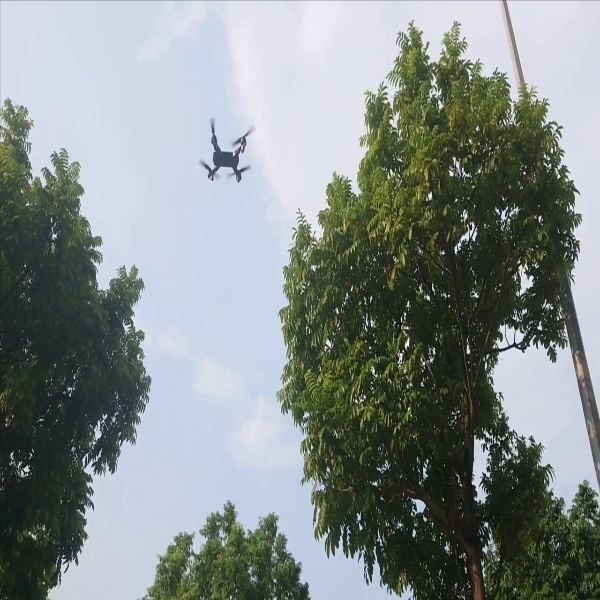drone: (193, 115, 260, 193)
